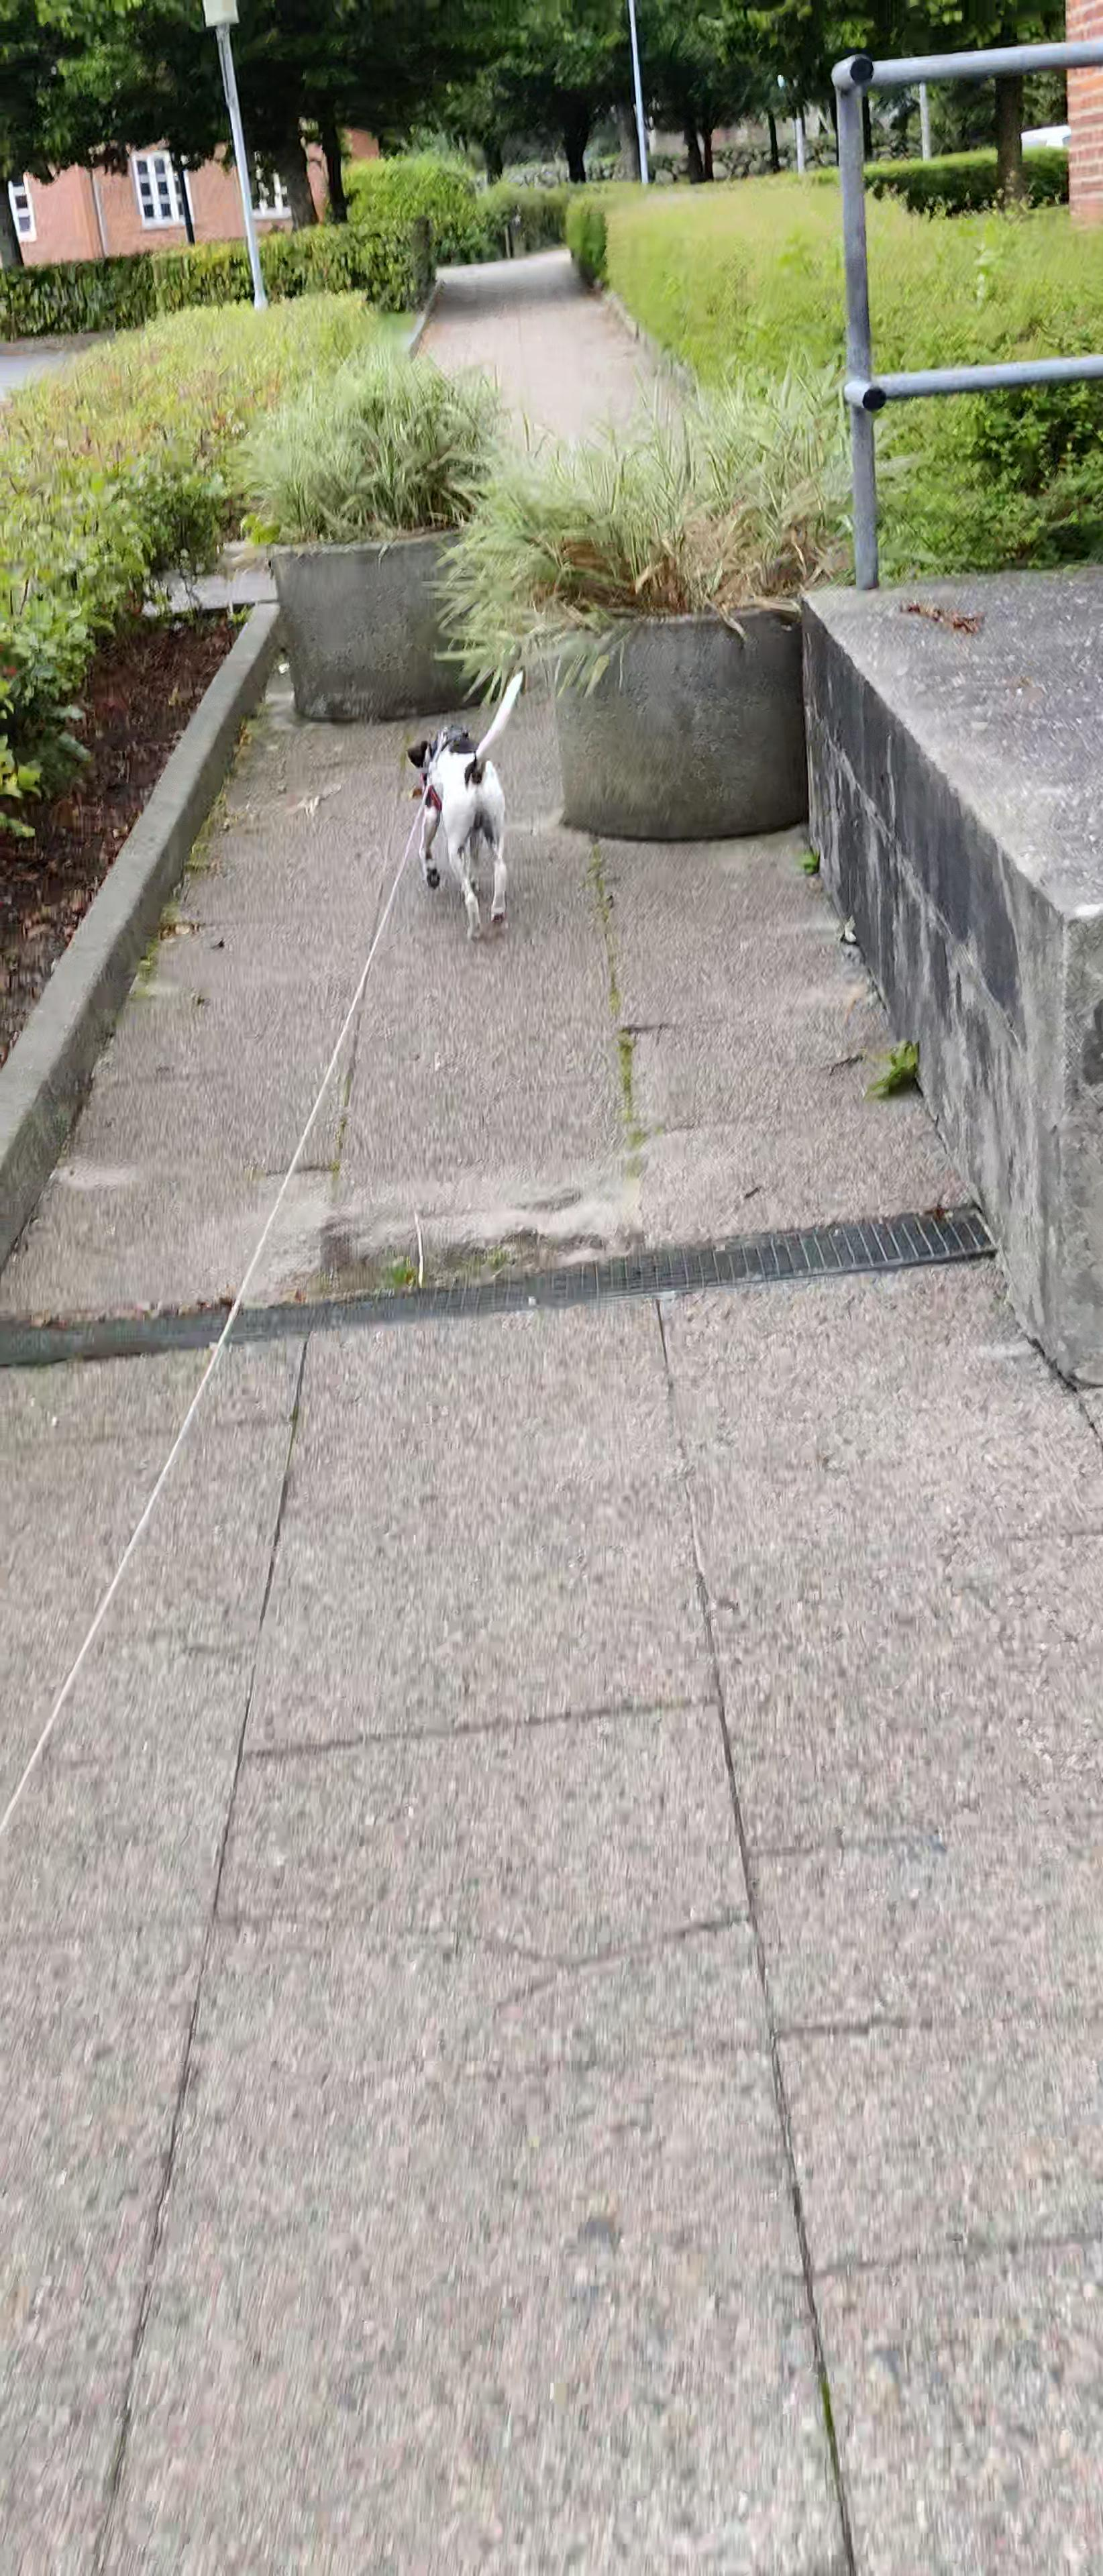Dog: (406, 664, 529, 943)
